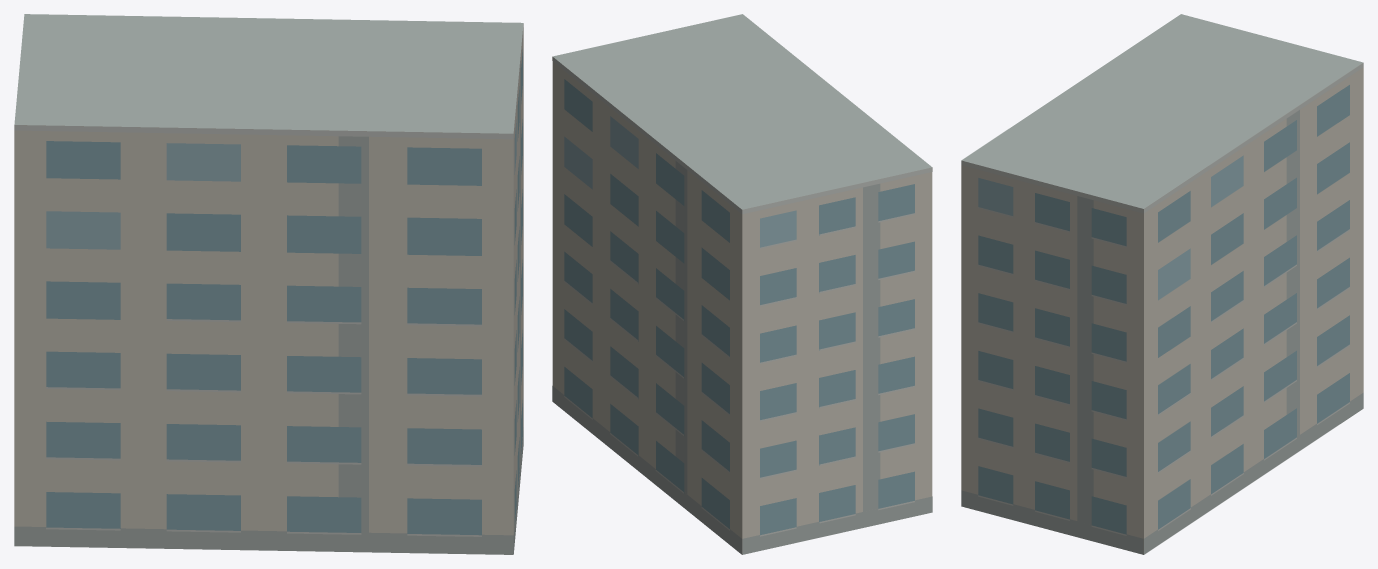
File: survey-upis-32646571.glb
3 renders of one model, left to right at view 1: azimuth 30°, elevation 25°; view 2: azimuth 150°, elevation 25°; view 3: azimuth 270°, elevation 25°, orthographic. The views are drawn at different scales.
Visible parts, largest first — view 1: survey-upis-32646571.tmp; view 2: survey-upis-32646571.tmp; view 3: survey-upis-32646571.tmp.
Boxes of the visible parts, x1,y1,x2,y2 form: survey-upis-32646571.tmp: (14, 14, 523, 554); survey-upis-32646571.tmp: (552, 14, 932, 554); survey-upis-32646571.tmp: (961, 14, 1363, 554).
Bounding box in the file's own units: 22.13 × 18.3 × 19.3.
